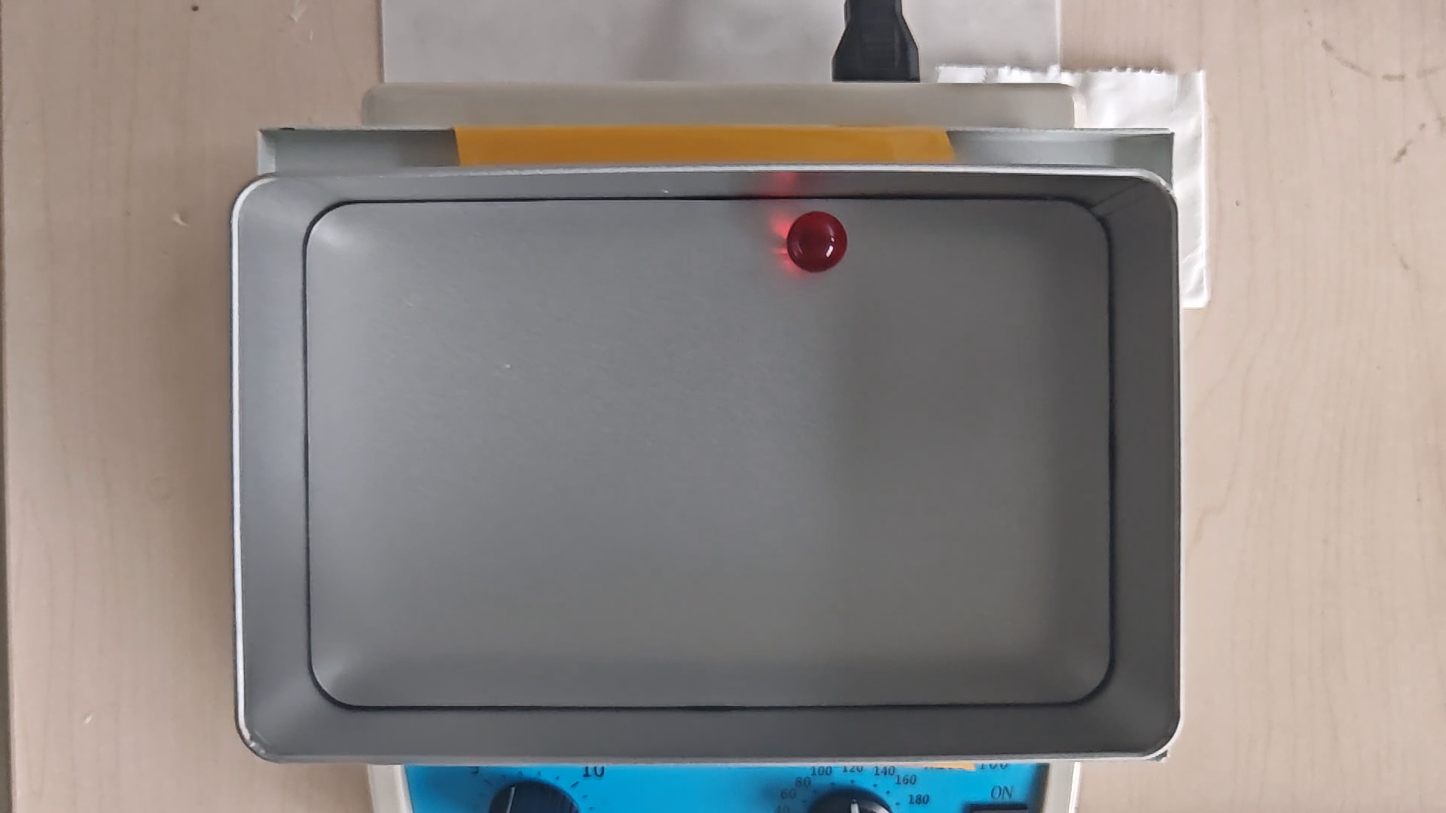ball: (786, 210, 849, 274)
container: (304, 202, 1114, 705)
